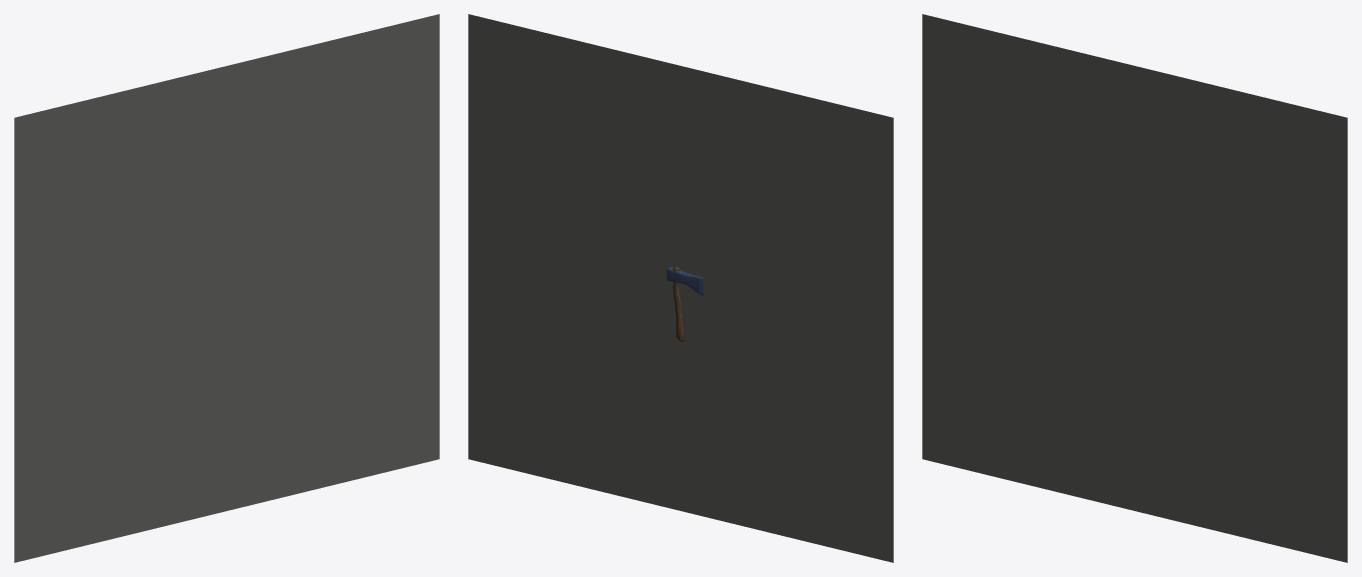
The model's file is Cartoon_axe.fbx.
3 renders of one model, left to right at view 1: azimuth 30°, elevation 25°; view 2: azimuth 150°, elevation 25°; view 3: azimuth 330°, elevation 25°, orthographic.
Parts seen in each view (by area): view 1: Plane; view 2: Plane, Cube; view 3: Plane.
Boxes of the visible parts, x1=… form: Plane: x1=14, y1=14, x2=439, y2=562; Plane: x1=468, y1=14, x2=893, y2=562; Cube: x1=667, y1=266, x2=703, y2=295; Plane: x1=922, y1=14, x2=1347, y2=562.
Size of the model in its own units: 70.37 by 70.37 by 1.22.
Materials: 3 (2 with a texture image).
